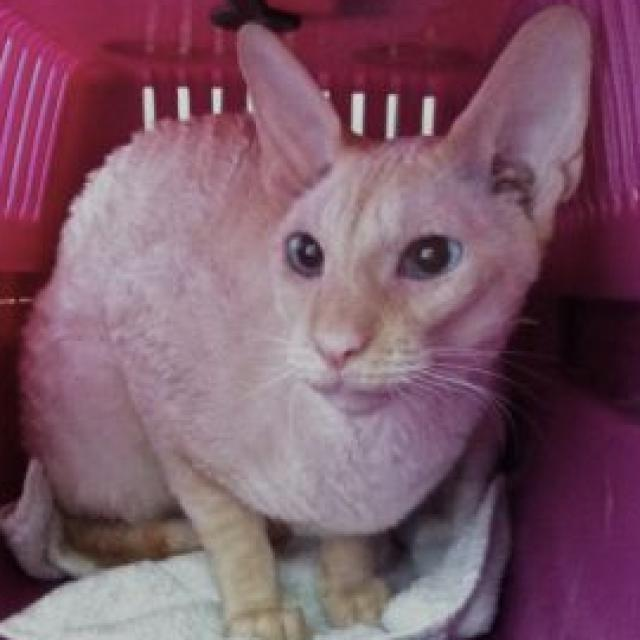Cornish Rex: (10, 0, 602, 640)
